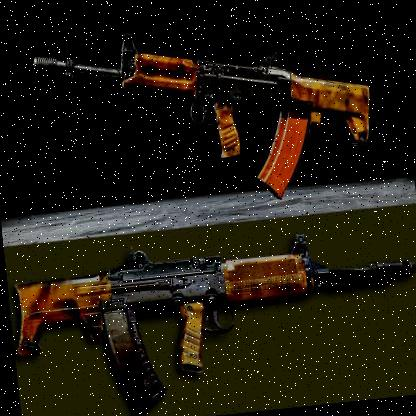rifle: (8, 209, 416, 416), (31, 0, 383, 226)
